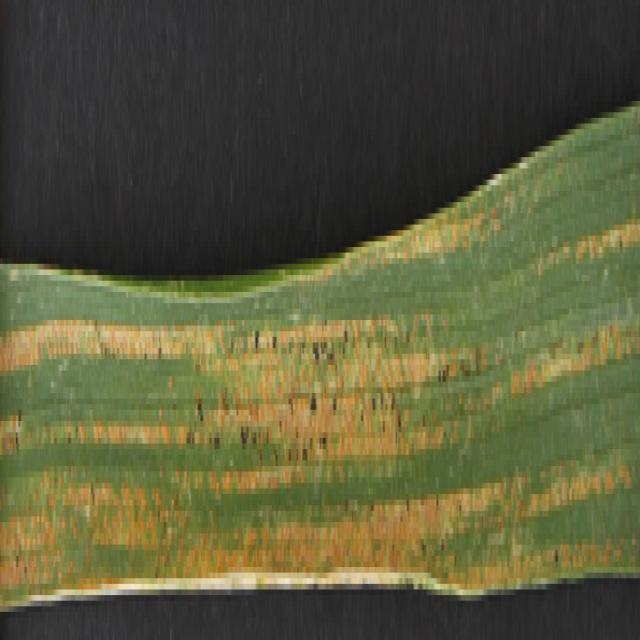leaf rust: (1, 208, 640, 584)
